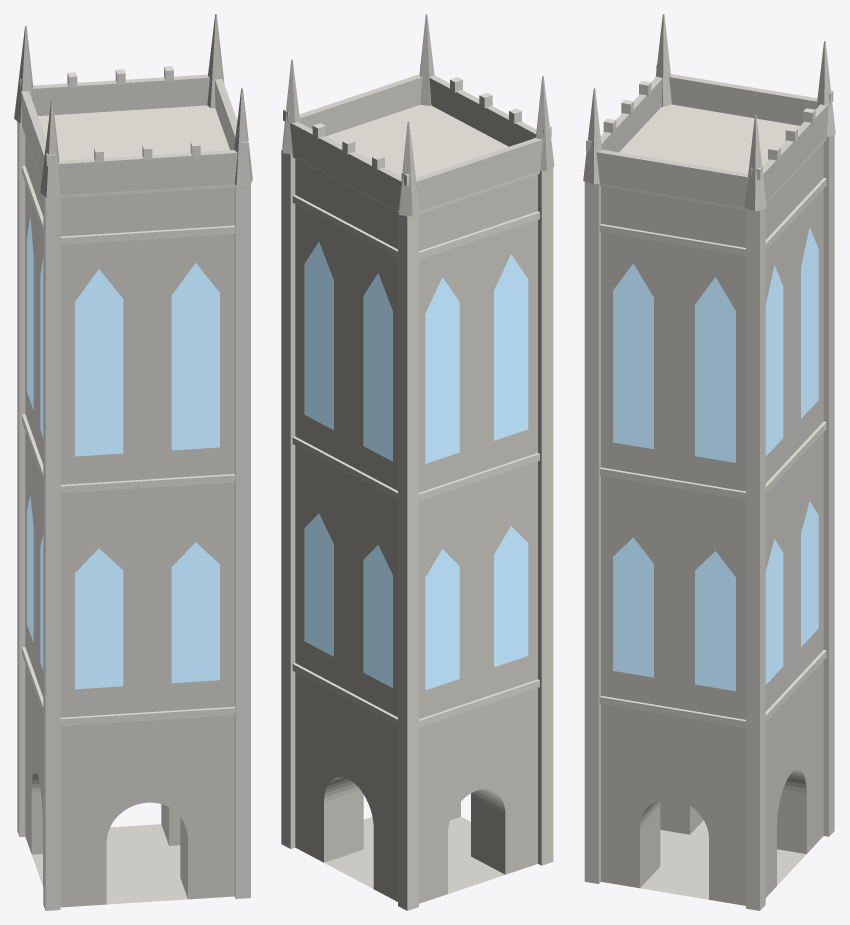
3 renders of one model, left to right at view 1: azimuth 30°, elevation 25°; view 2: azimuth 150°, elevation 25°; view 3: azimuth 270°, elevation 25°, orthographic. The views are drawn at different scales.
Visible parts, largest first — view 1: stone, trim, window; view 2: stone, trim, window; view 3: stone, trim, window.
Boxes of the visible parts, x1=… form: stone: x1=14, y1=14, x2=252, y2=907; trim: x1=17, y1=66, x2=250, y2=910; window: x1=27, y1=217, x2=219, y2=689; stone: x1=282, y1=14, x2=554, y2=903; trim: x1=281, y1=64, x2=553, y2=910; window: x1=304, y1=242, x2=528, y2=690; stone: x1=583, y1=14, x2=835, y2=905; trim: x1=584, y1=65, x2=834, y2=910; window: x1=613, y1=227, x2=818, y2=691.
Size of the model in its own units: 15.51 by 52 by 15.04.
